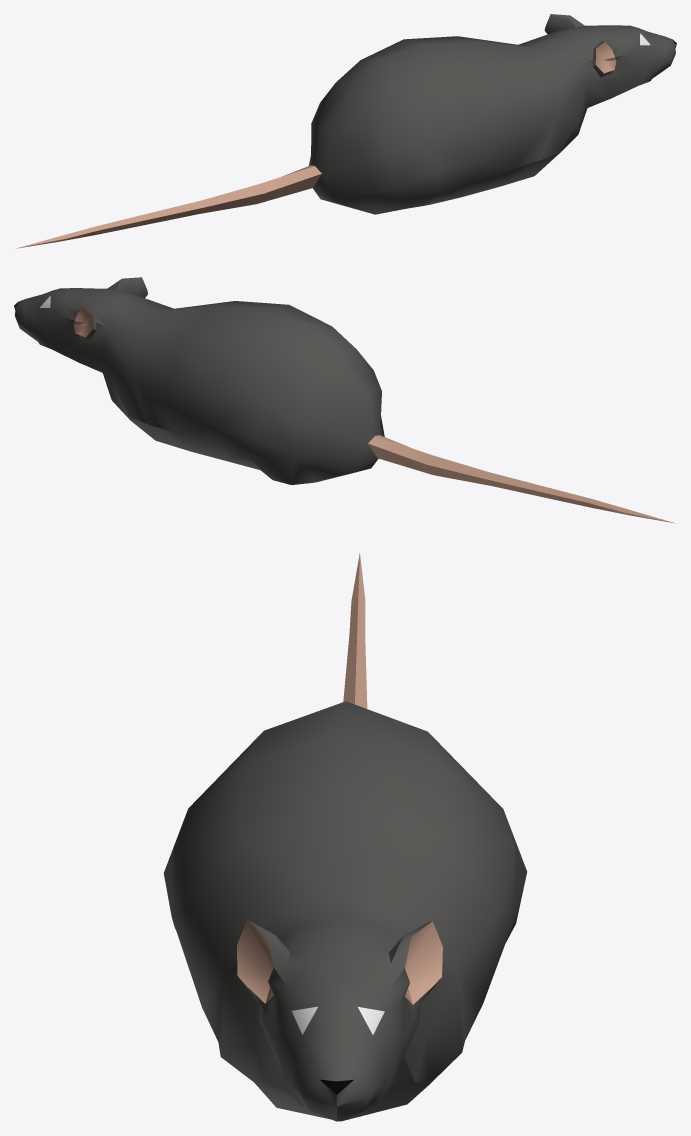
Rendered from rat.fbx.
The picture shows the model from 3 angles, top to bottom: view 1: azimuth 30°, elevation 25°; view 2: azimuth 150°, elevation 25°; view 3: azimuth 270°, elevation 25°; orthographic projection. The views are drawn at different scales.
Visible parts, largest first — view 1: rat; view 2: rat; view 3: rat.
Part boxes in pixels (bbox=[...]): rat: bbox=[16, 14, 676, 248]; rat: bbox=[14, 277, 674, 523]; rat: bbox=[163, 553, 527, 1121].
Size of the model in its own units: 1173 by 250 by 281.
